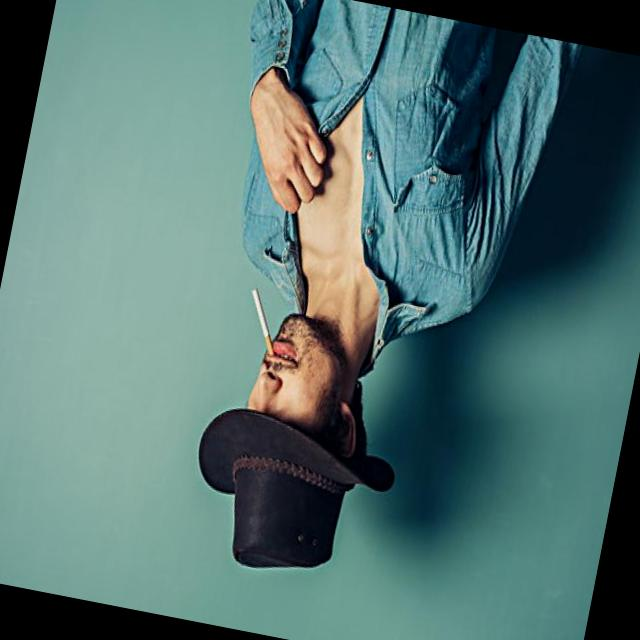cigarette: (233, 286, 290, 367)
